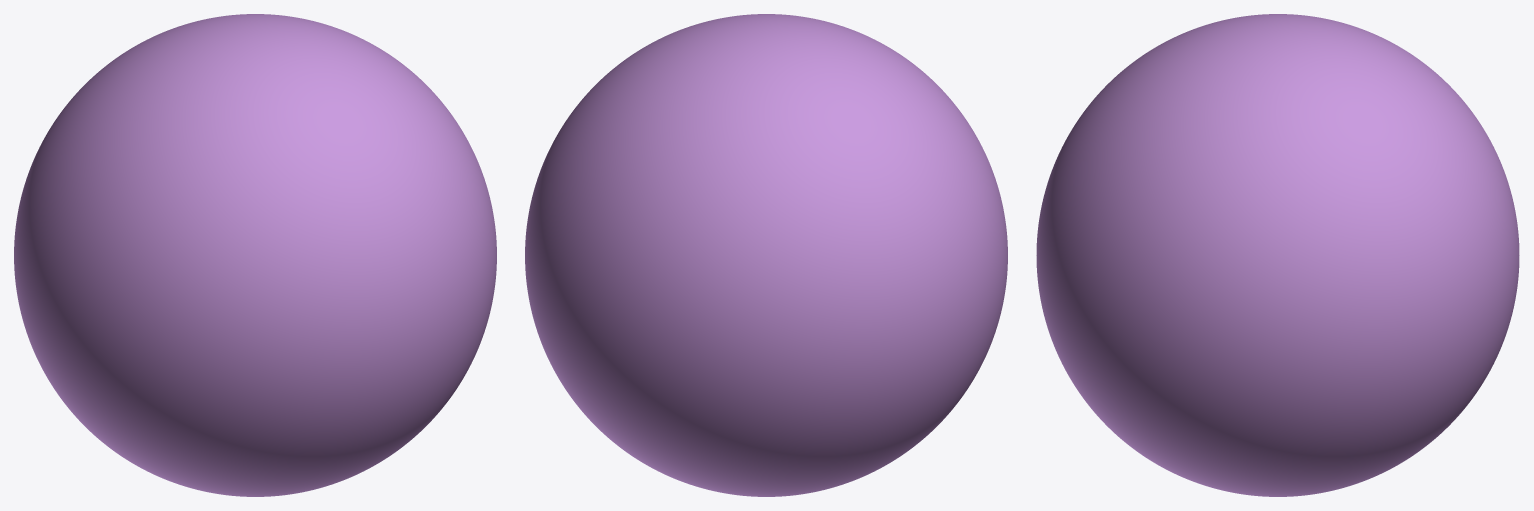
The model's file is heavy-sphere.glb.
3 views of the same model, side by side, from view 1: azimuth 30°, elevation 25°; view 2: azimuth 150°, elevation 25°; view 3: azimuth 270°, elevation 25° (orthographic).
Parts seen in each view (by area): view 1: Sphere; view 2: Sphere; view 3: Sphere.
Part boxes in pixels (left/top/right/bottom): Sphere: left=14, top=14, right=496, bottom=496; Sphere: left=525, top=14, right=1007, bottom=496; Sphere: left=1036, top=14, right=1519, bottom=496.
Size of the model in its own units: 1 by 1 by 1.
